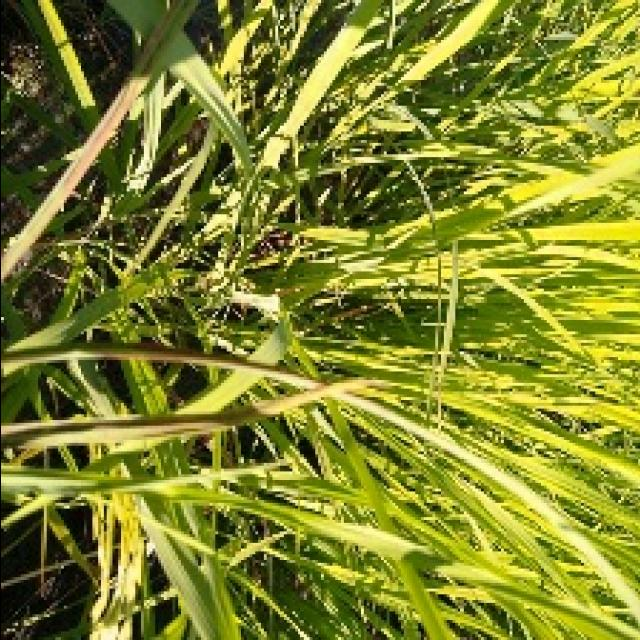Unhealthy: (64, 0, 183, 201), (95, 343, 279, 372)
